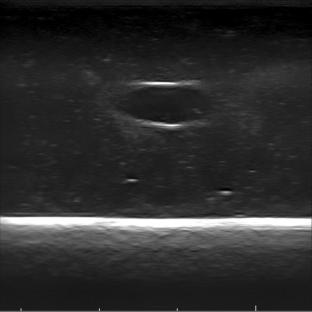vessel: (114, 79, 213, 130)
